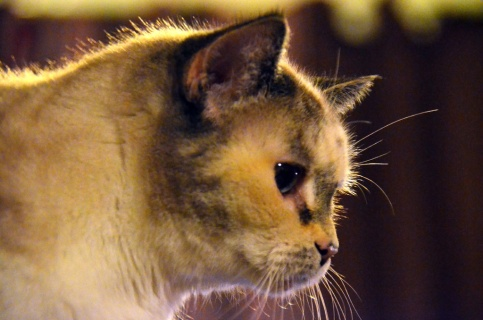Cat: (0, 5, 438, 319)
